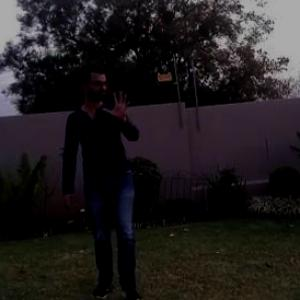follow_hand: (102, 86, 134, 122)
